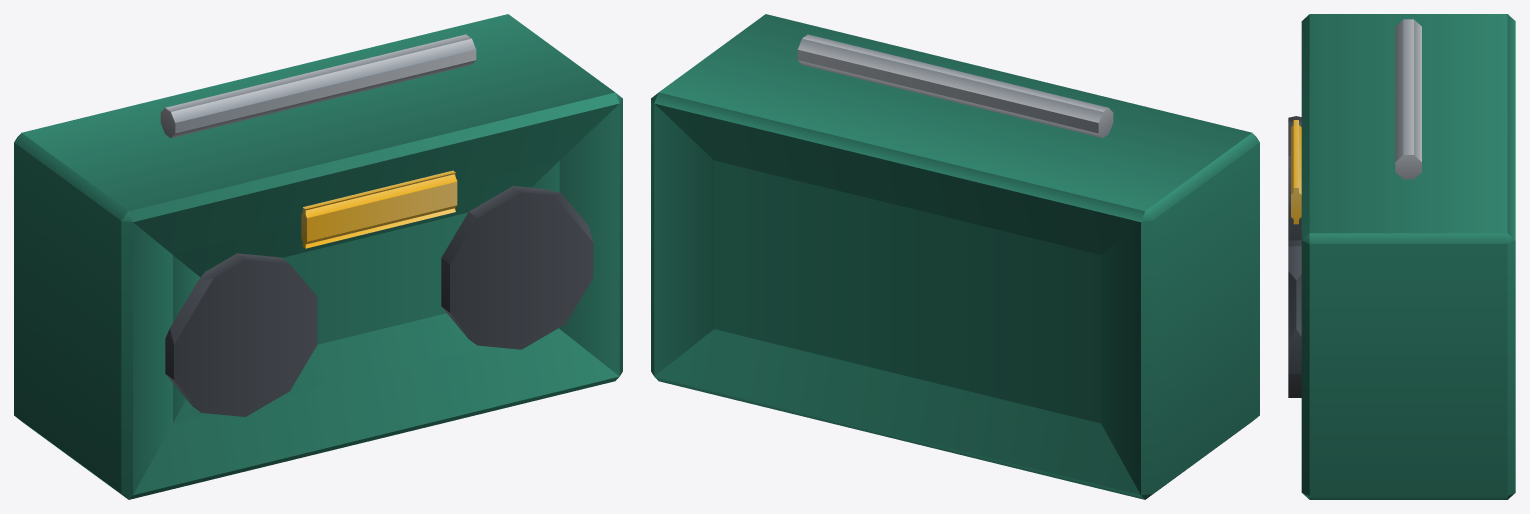
The model's file is dt_boombox_speaker.fbx.
3 renders of one model, left to right at view 1: azimuth 30°, elevation 25°; view 2: azimuth 150°, elevation 25°; view 3: azimuth 270°, elevation 25°, orthographic. The views are drawn at different scales.
Parts seen in each view (by area): view 1: dt_boombox_speaker; view 2: dt_boombox_speaker; view 3: dt_boombox_speaker.
Part boxes in pixels (box(x1,y1,x2,y2)): dt_boombox_speaker: box(14, 14, 622, 499); dt_boombox_speaker: box(651, 14, 1259, 499); dt_boombox_speaker: box(1288, 14, 1515, 499).
Size of the model in its own units: 200 by 125 by 85.
